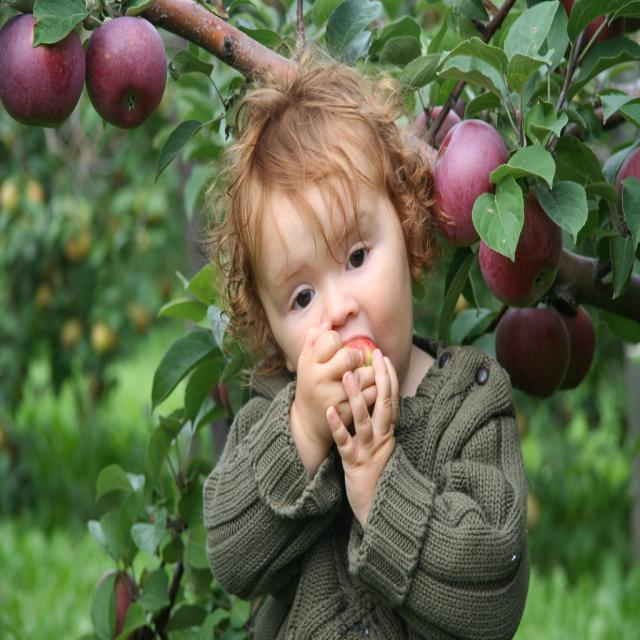Healty Apple: (408, 102, 640, 400), (0, 13, 88, 126), (78, 4, 162, 121), (90, 564, 147, 639), (563, 0, 624, 49), (220, 375, 235, 415), (210, 384, 219, 399)
